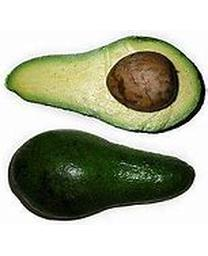avocado: (4, 36, 206, 138), (6, 127, 199, 223)
